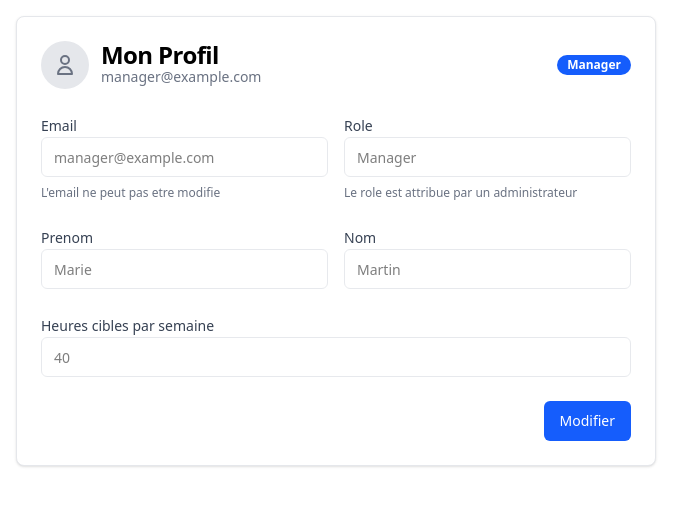
ProfilePage › Validation - AC4 › shows error when weekly hours exceed 168
Expected: the heading "Mon Profil" is shown, [101,38,219,71]
Click the button "Modifier" at [587, 421], box [544,401,631,441]
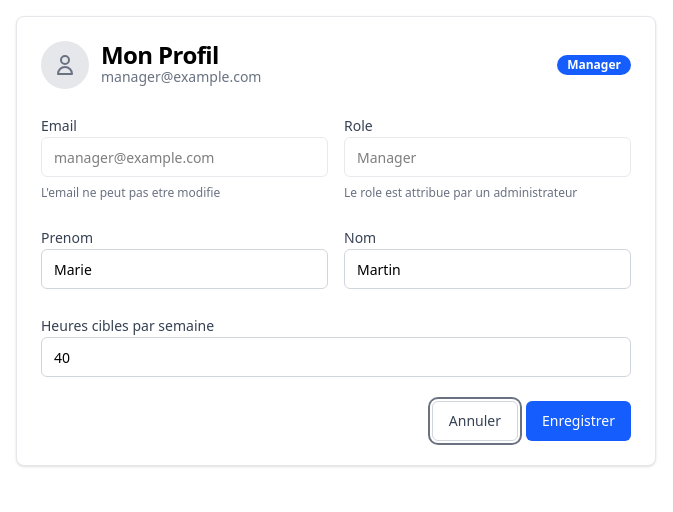
Replace the text in the number field labelled "Heures cibles par semaine" with "200" at [336, 357], box [41,337,631,377]
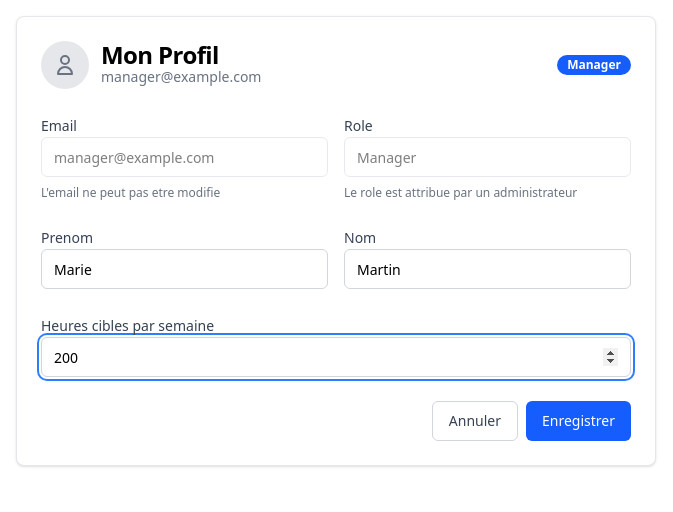
Click the button "Enregistrer" at [578, 421], box [526,401,631,441]
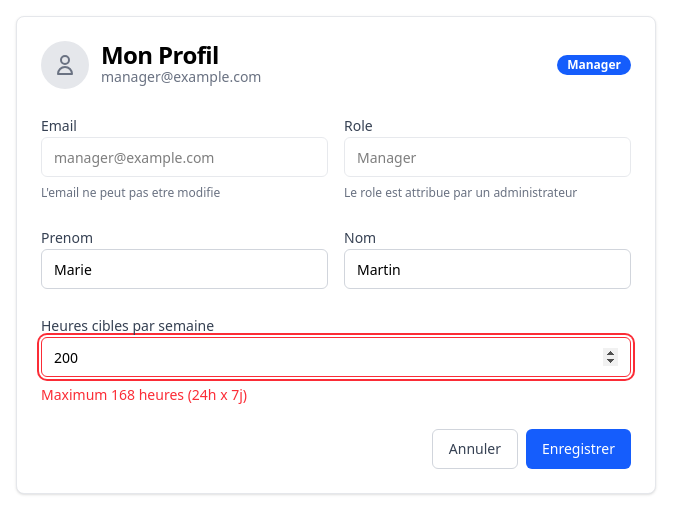
Now the text "Maximum 168 heures (24h x 7j)" is shown, box [41,385,247,404]
